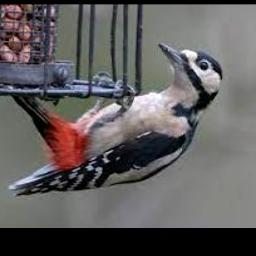Woodpecker: (9, 42, 223, 196)
